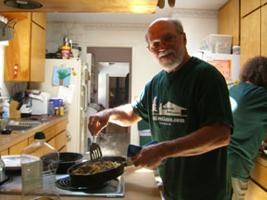person: (90, 19, 233, 198)
